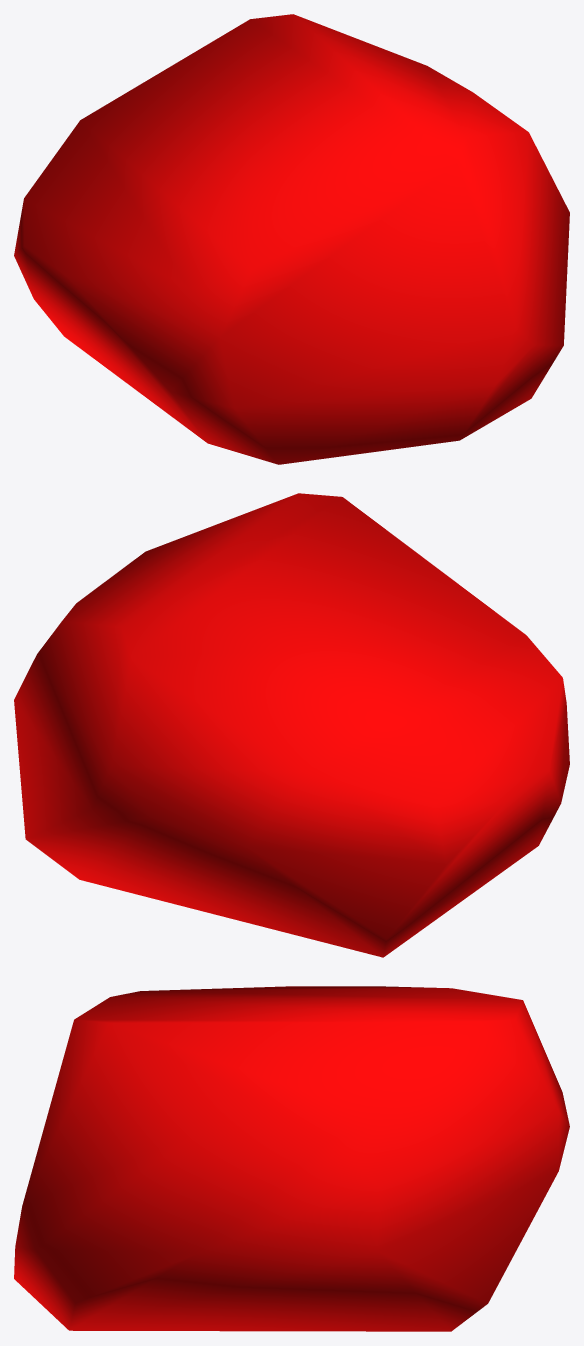
File: Rocher3_LowPoly.fbx
3 views of the same model, one above another, from view 1: azimuth 30°, elevation 25°; view 2: azimuth 150°, elevation 25°; view 3: azimuth 270°, elevation 25° (orthographic). The views are drawn at different scales.
Visible parts, largest first — view 1: Rocher3_LowPoly; view 2: Rocher3_LowPoly; view 3: Rocher3_LowPoly.
Part boxes in pixels (x1,y1,x2,y2): Rocher3_LowPoly: (14,14,569,464); Rocher3_LowPoly: (14,493,569,957); Rocher3_LowPoly: (14,986,569,1331).
Bounding box in the file's own units: 88.31 × 47.44 × 84.36.
